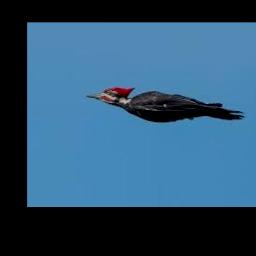Woodpecker: (87, 86, 246, 123)
